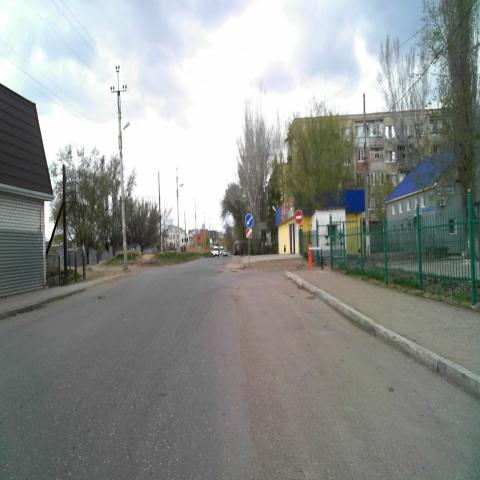3_1: (295, 209, 303, 224)
4_2_2: (245, 213, 253, 228)
